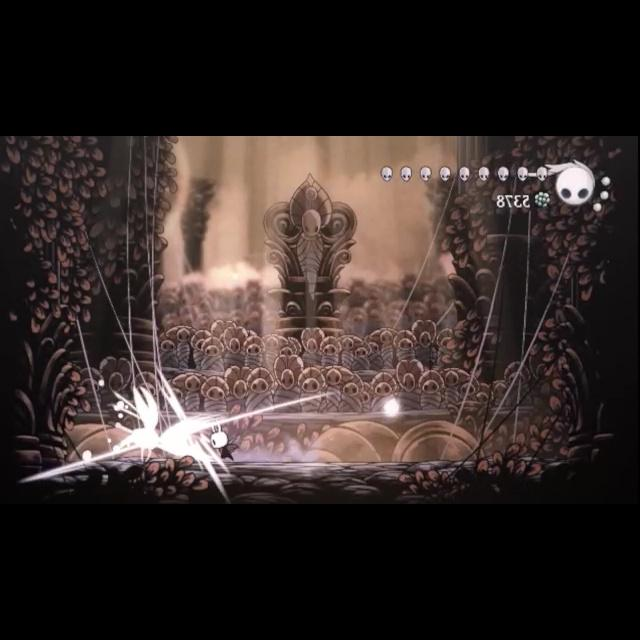EnemyDamaged: (116, 381, 188, 469)
Player: (204, 418, 240, 462)
